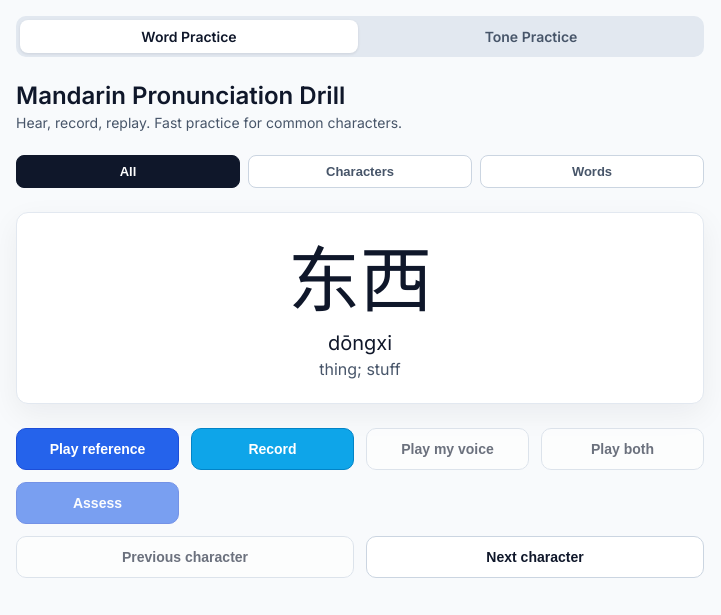
Test: App integration › navigates between pages via navbar
Check: the heading "Mandarin Pronunciation Drill" is shown, box [16,81,402,110]
Click the link "Tone Practice". click: {"x": 531, "y": 36}
box: [485,28,577,45]
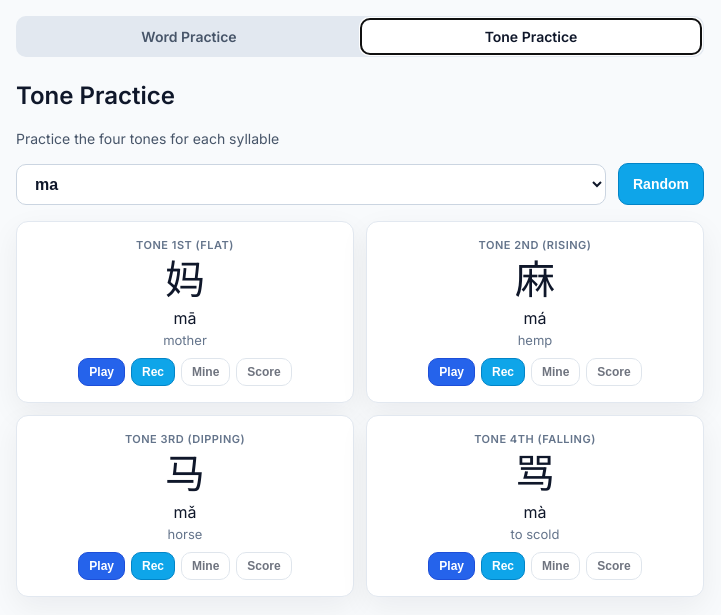
Check: the dropdown named "Select syllable" is shown, box [16,164,606,204]
Click the link "Word Practice". click: {"x": 189, "y": 36}
box: [141,28,237,45]
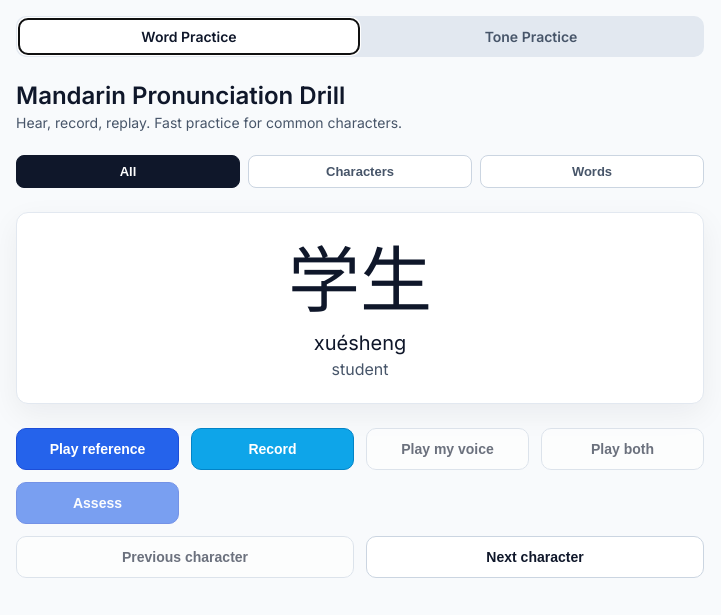
Check: the heading "Mandarin Pronunciation Drill" is shown, box [16,81,402,110]
